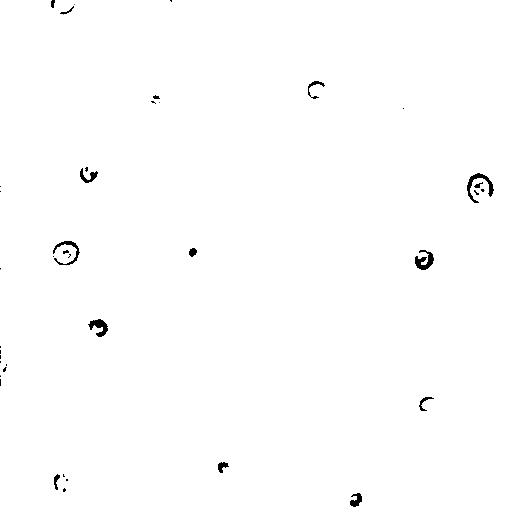micro-algae: (164, 268, 216, 321), (368, 81, 419, 134), (41, 465, 81, 500), (465, 172, 495, 204), (181, 236, 207, 267), (53, 239, 81, 267), (80, 316, 108, 339), (411, 247, 437, 271), (77, 161, 99, 184), (49, 0, 79, 15), (0, 351, 14, 379), (306, 79, 325, 99), (418, 396, 439, 413), (215, 459, 233, 475), (348, 491, 364, 506), (164, 0, 185, 5)
